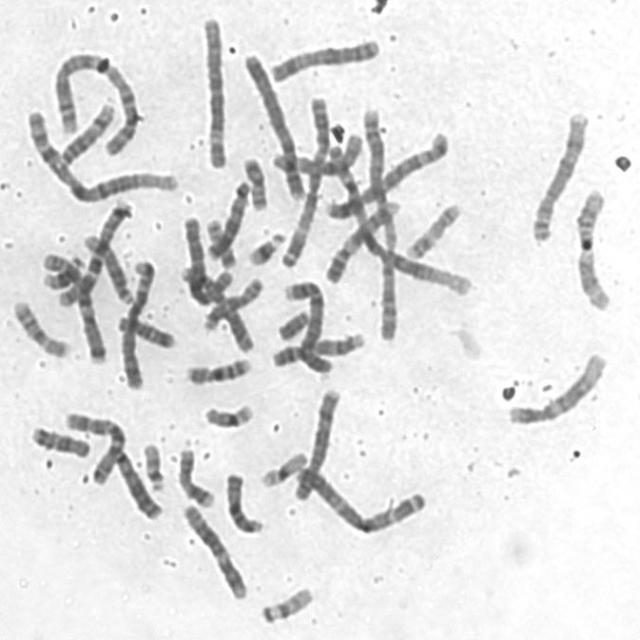A1: (324, 128, 473, 298), (21, 103, 181, 203)
A2: (48, 46, 144, 158), (358, 106, 403, 341)
A3: (290, 459, 431, 536), (276, 90, 334, 270)
B4: (239, 46, 309, 204), (280, 274, 336, 378)
B5: (320, 124, 452, 221), (116, 253, 159, 392)
C10: (60, 405, 129, 485), (267, 126, 367, 180)
C11: (180, 266, 256, 356), (571, 181, 616, 313)
C12: (503, 344, 612, 427), (178, 496, 252, 602)
C6: (197, 8, 232, 171), (178, 209, 236, 307)
C7: (49, 194, 135, 308), (36, 244, 109, 366)
C8: (527, 105, 592, 244), (290, 381, 344, 505)
C9: (321, 194, 404, 286), (268, 325, 368, 370)
D13: (202, 174, 254, 263), (110, 445, 166, 522)
D14: (55, 96, 120, 167), (78, 227, 136, 305)
D15: (199, 271, 266, 332), (221, 466, 267, 536)
E16: (8, 292, 73, 360), (182, 351, 254, 386)
E17: (402, 196, 465, 260), (173, 441, 218, 510)
E18: (25, 418, 93, 460), (113, 308, 179, 351)
F19: (256, 446, 311, 490), (198, 397, 258, 431)
F20: (200, 212, 238, 270), (238, 150, 271, 212)
G21: (38, 250, 88, 292), (244, 225, 287, 268)
G22: (255, 579, 318, 626), (138, 435, 167, 493)
X: (266, 32, 384, 84)
Y: (274, 304, 312, 342)
